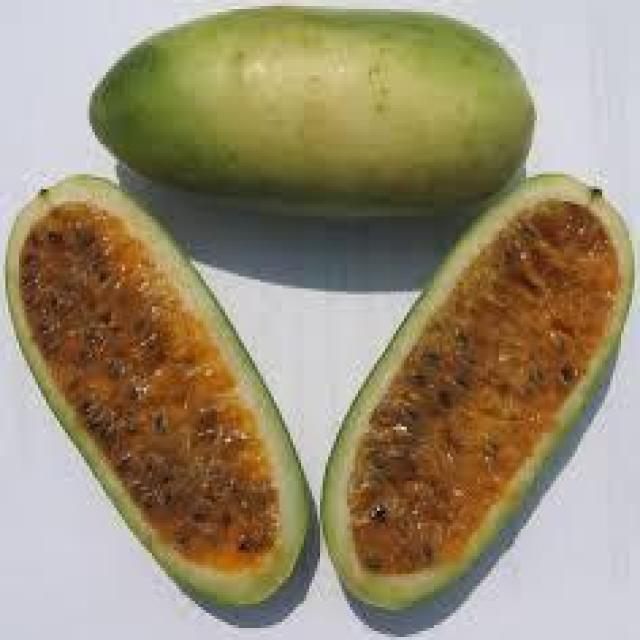organic: (5, 3, 635, 634)
